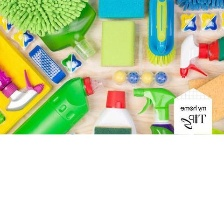cleaning_solution: (1, 74, 109, 161), (132, 84, 183, 198), (90, 86, 139, 204), (7, 0, 99, 62), (0, 58, 46, 111), (176, 31, 224, 81)
